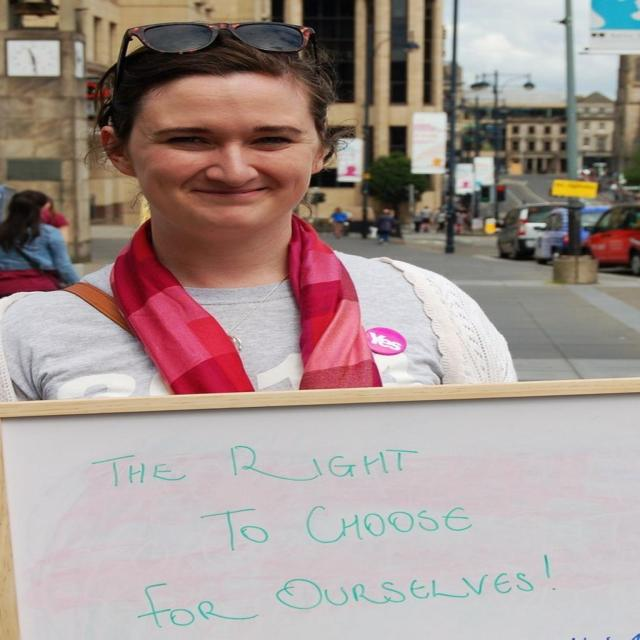Face: (106, 64, 334, 238)
